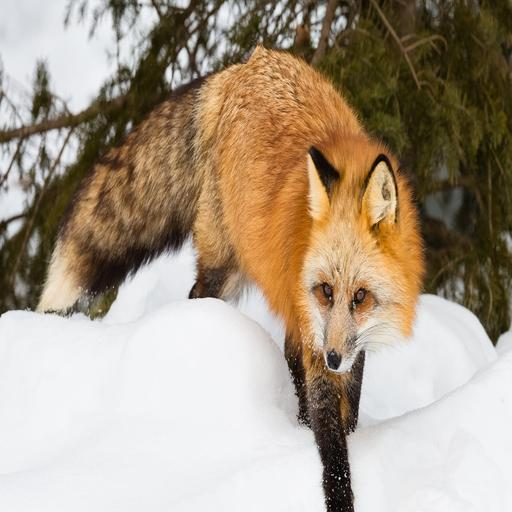Fox: (0, 41, 436, 506)
